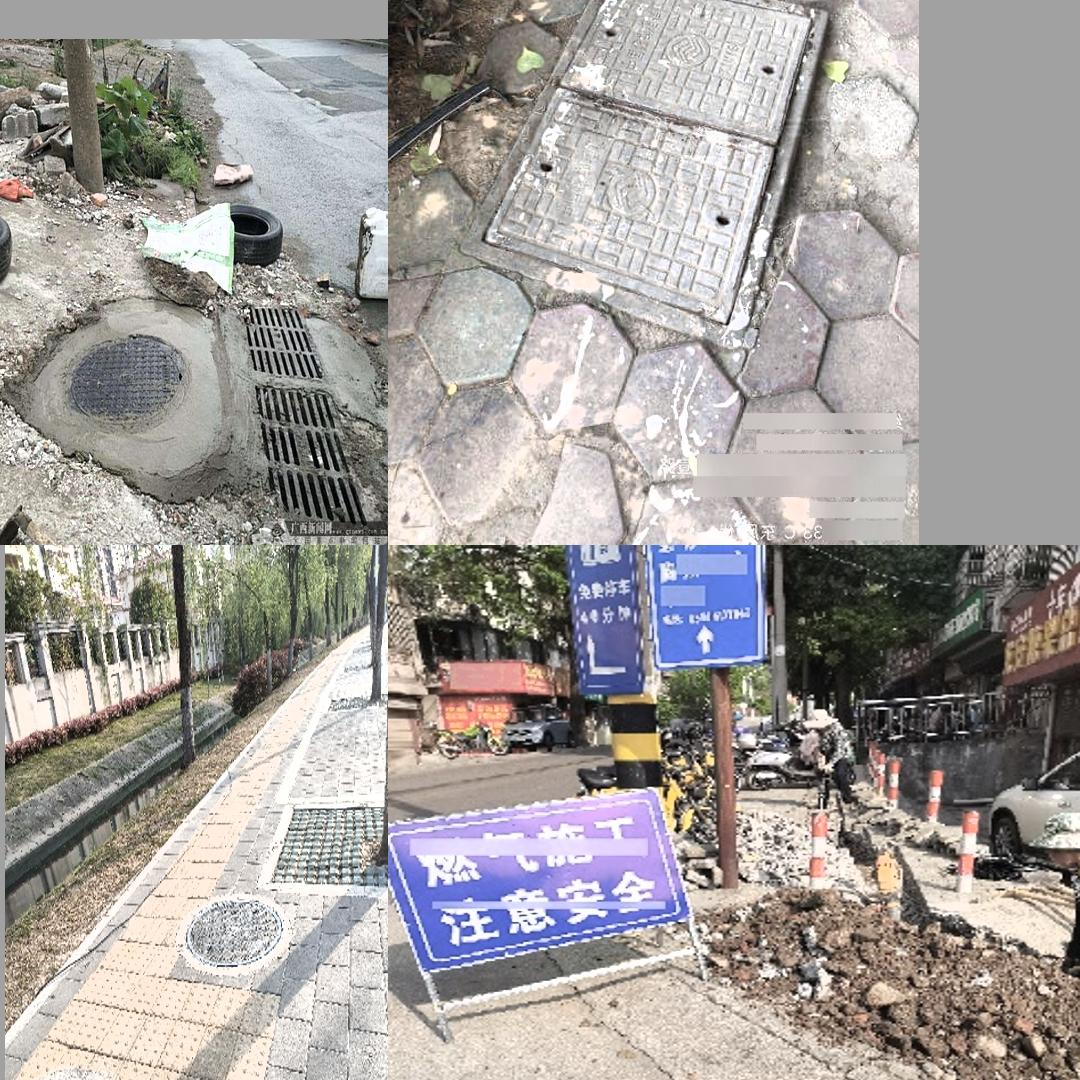good: (458, 0, 826, 347), (1, 296, 249, 501), (235, 302, 381, 527), (185, 898, 283, 968), (5, 1078, 113, 1080)
